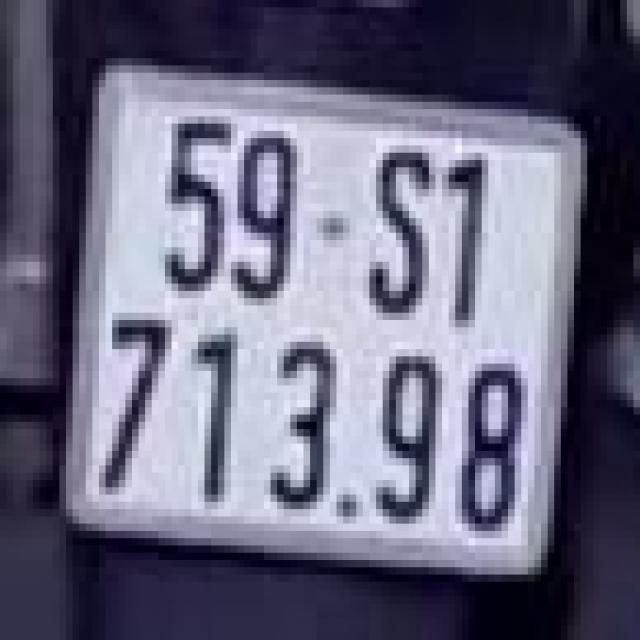1: (185, 309, 244, 513), (439, 131, 498, 327)
3: (264, 331, 336, 520)
5: (152, 109, 231, 298)
7: (89, 302, 175, 513)
8: (458, 346, 524, 534)
9: (369, 345, 448, 520), (231, 120, 303, 302)
S: (359, 131, 438, 327)
